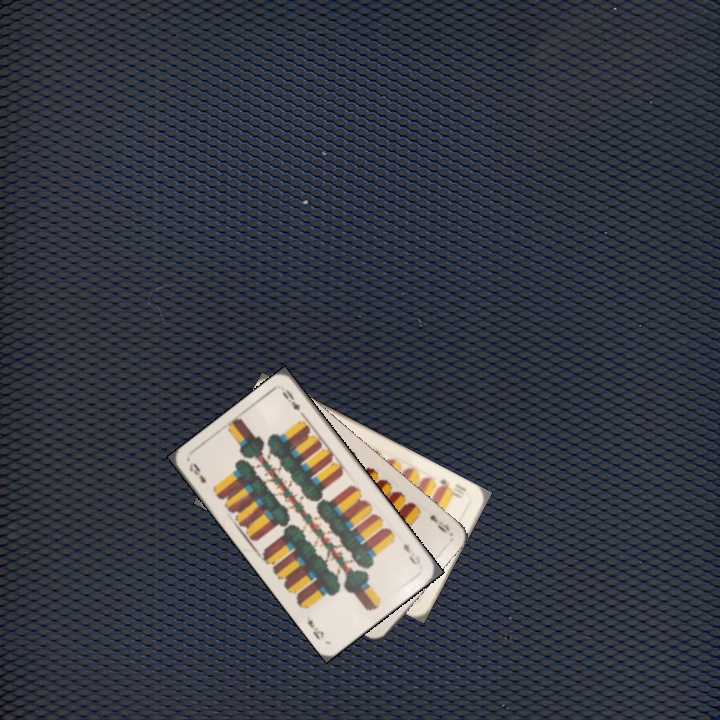E10: (434, 475, 469, 501)
E9: (399, 539, 423, 568), (185, 458, 209, 486), (426, 511, 452, 535)
